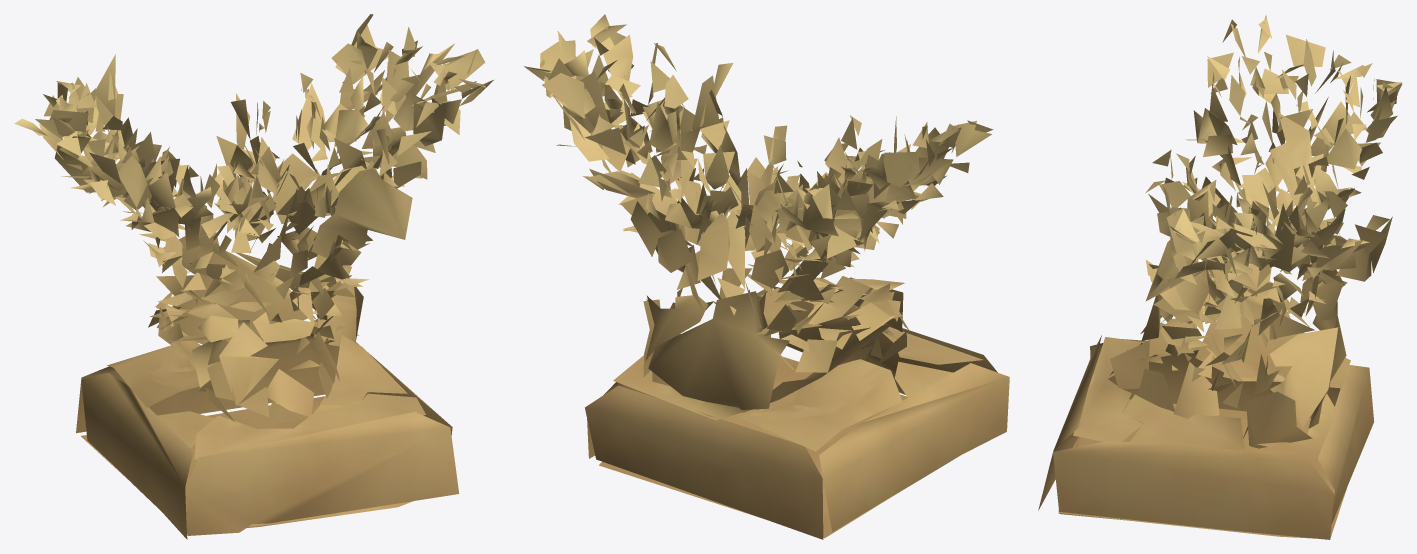
File: acropora_hyacinthus_lo.glb
3 renders of one model, left to right at view 1: azimuth 30°, elevation 25°; view 2: azimuth 150°, elevation 25°; view 3: azimuth 270°, elevation 25°, orthographic. The views are drawn at different scales.
Visible parts, largest first — view 1: acropora_hyacinthus_far; view 2: acropora_hyacinthus_far; view 3: acropora_hyacinthus_far.
Part boxes in pixels (bbox=[...]): acropora_hyacinthus_far: bbox=[14, 14, 494, 539]; acropora_hyacinthus_far: bbox=[523, 14, 1009, 539]; acropora_hyacinthus_far: bbox=[1038, 15, 1402, 539].
Size of the model in its own units: 0.3865 by 0.3287 by 0.2915.
Materials: 1 (1 with a texture image).
